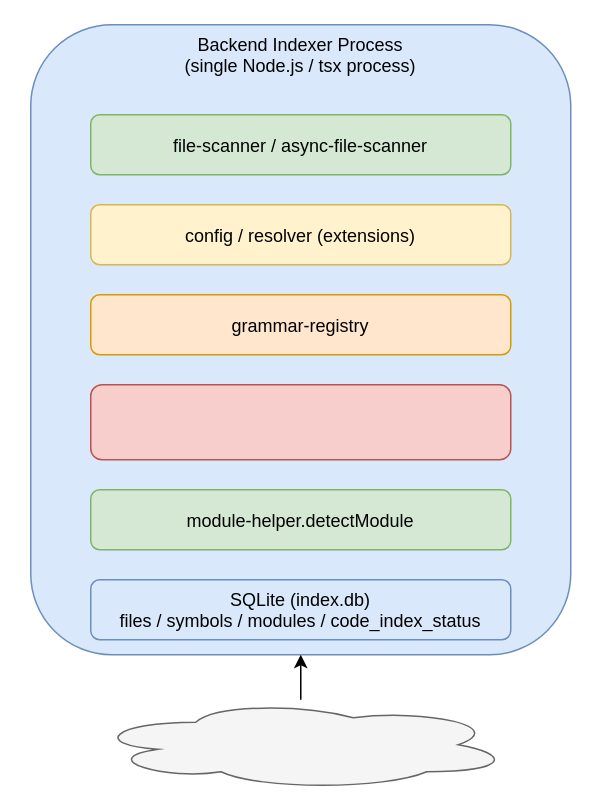
Some shapes in this 600 by 810 pixel diagram are drawn without their labels. Each missing label, with the centre of its shape:
SalesforceMetaParser / VisualforceParser / AuraParser / apex-parser: the point at 300,421
SFDX Workspace (volume mount): the point at 300,744
